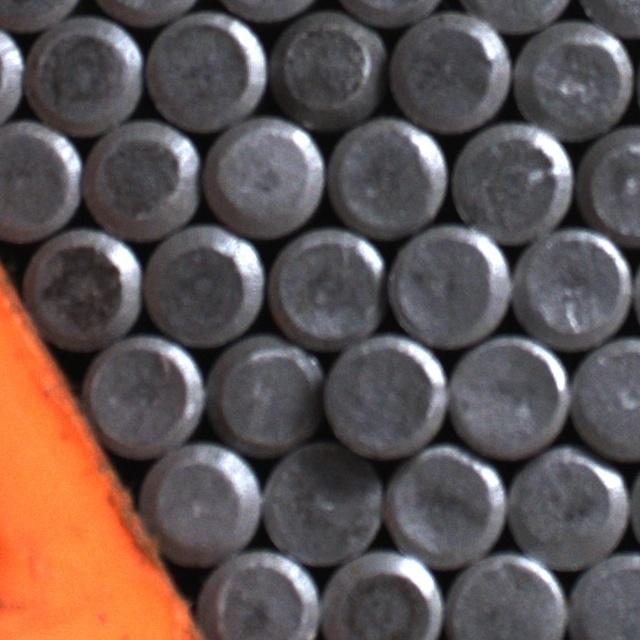tool: (258, 434, 387, 567), (321, 330, 448, 459), (444, 330, 570, 459), (138, 439, 263, 567), (383, 440, 507, 569), (448, 118, 574, 244), (506, 443, 630, 571), (81, 331, 204, 460), (386, 222, 511, 348), (202, 113, 327, 238), (141, 8, 267, 132), (387, 9, 511, 134), (141, 223, 265, 346), (327, 113, 448, 239), (511, 18, 635, 140), (82, 118, 203, 242), (510, 225, 632, 346), (24, 226, 142, 351), (265, 227, 385, 349), (25, 13, 144, 136), (208, 334, 326, 456), (269, 5, 385, 126), (442, 549, 570, 640), (317, 547, 442, 640), (202, 548, 322, 640), (0, 117, 83, 241), (566, 334, 640, 462), (576, 123, 640, 246), (564, 549, 640, 640)
